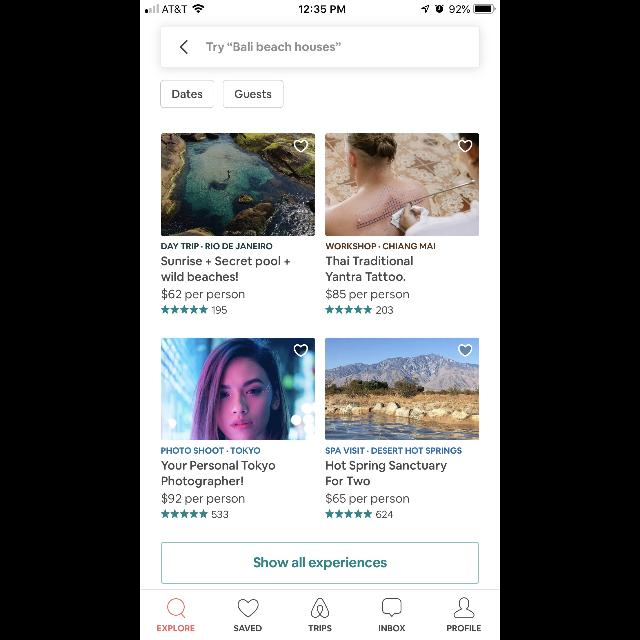icon: (326, 304, 372, 314), (162, 304, 208, 314), (162, 509, 208, 518), (326, 509, 372, 518), (382, 598, 402, 618), (454, 598, 474, 618), (168, 598, 186, 618), (238, 599, 258, 617), (311, 598, 329, 618), (458, 344, 472, 358), (294, 140, 308, 152), (458, 140, 472, 152), (294, 344, 308, 356), (180, 40, 188, 54)
image: (325, 338, 479, 440), (161, 338, 315, 440), (161, 134, 315, 236), (325, 134, 479, 236)
input: (160, 26, 480, 68)
text: (162, 243, 290, 281), (325, 243, 435, 281), (162, 460, 276, 488), (327, 460, 447, 486), (206, 42, 340, 54), (162, 288, 245, 302), (326, 492, 409, 506), (162, 492, 245, 506), (326, 288, 408, 300), (326, 448, 462, 454), (162, 448, 260, 454), (447, 624, 481, 632), (234, 624, 262, 632), (158, 625, 195, 631), (379, 624, 405, 632), (308, 624, 332, 632), (376, 510, 394, 518), (376, 306, 392, 314), (212, 510, 228, 518), (212, 306, 226, 314)
textbutton: (161, 542, 479, 584), (223, 80, 283, 108), (160, 80, 214, 108)
uppertaskbar: (140, 0, 500, 14)
